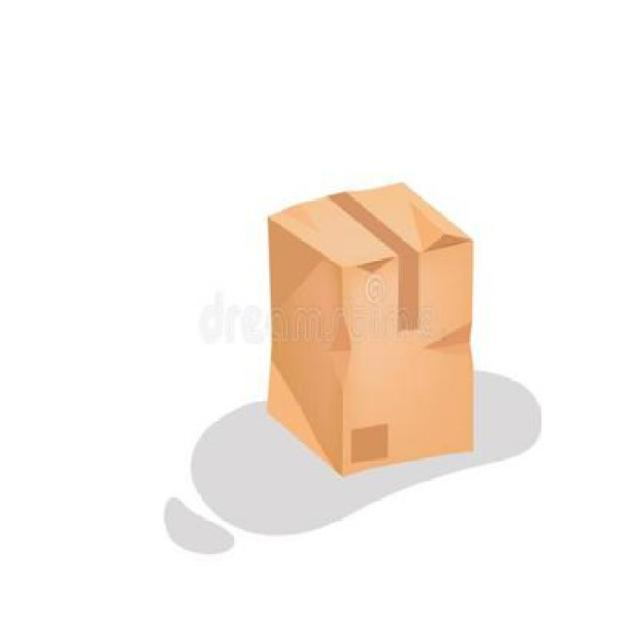defect: (260, 180, 478, 483)
